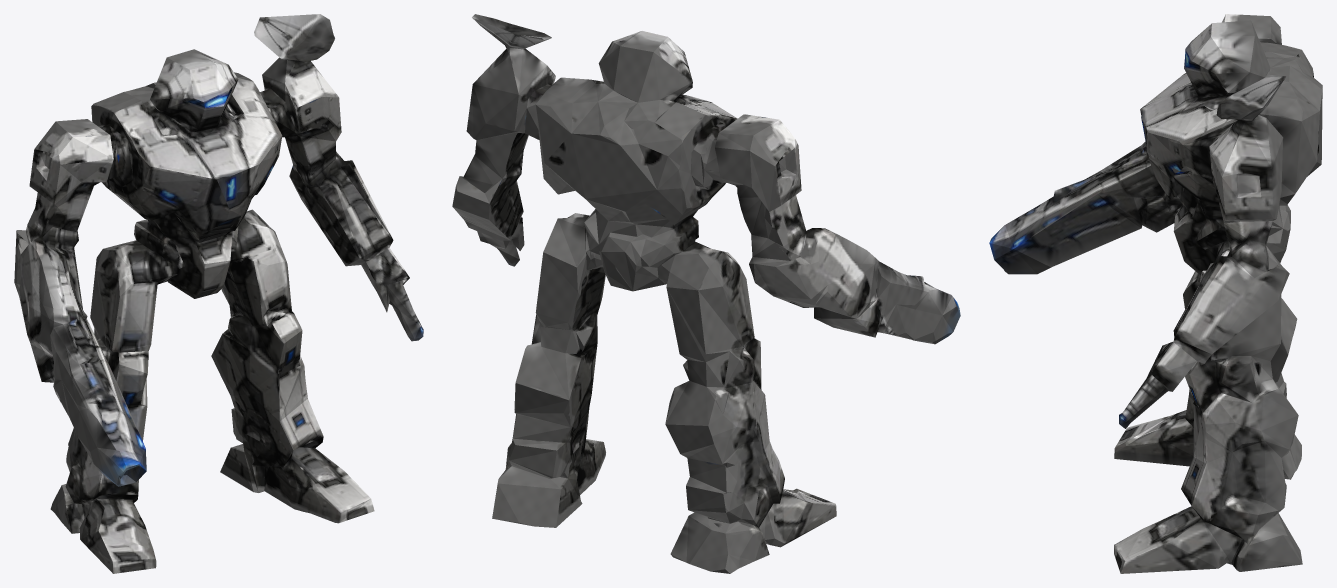
The model's file is commander_lod2.glb.
3 renders of one model, left to right at view 1: azimuth 30°, elevation 25°; view 2: azimuth 150°, elevation 25°; view 3: azimuth 270°, elevation 25°, orthographic. The views are drawn at different scales.
Visible parts, largest first — view 1: AxiomCommander; view 2: AxiomCommander; view 3: AxiomCommander.
Part boxes in pixels (<box>): AxiomCommander: <box>14,14,423,573</box>; AxiomCommander: <box>452,14,960,573</box>; AxiomCommander: <box>989,14,1322,573</box>.
Size of the model in its own units: 1.67 by 1.95 by 1.22.
Materials: 1 (1 with a texture image).
